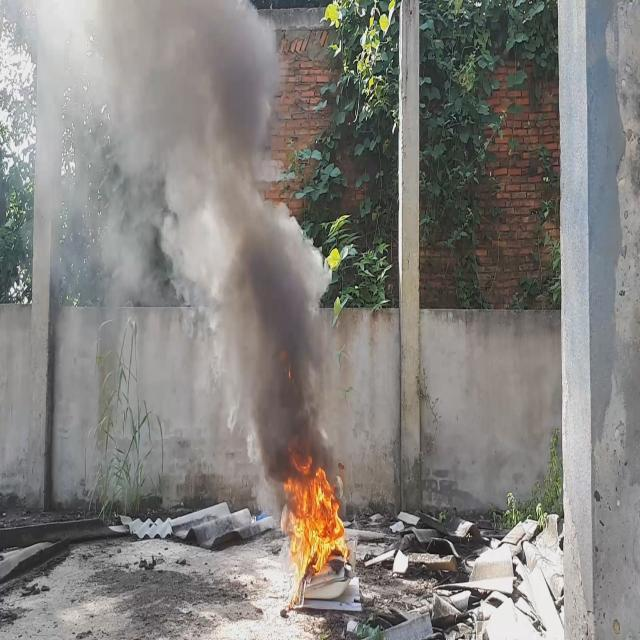Fire: (284, 443, 352, 618)
Smoke: (0, 0, 337, 482)
